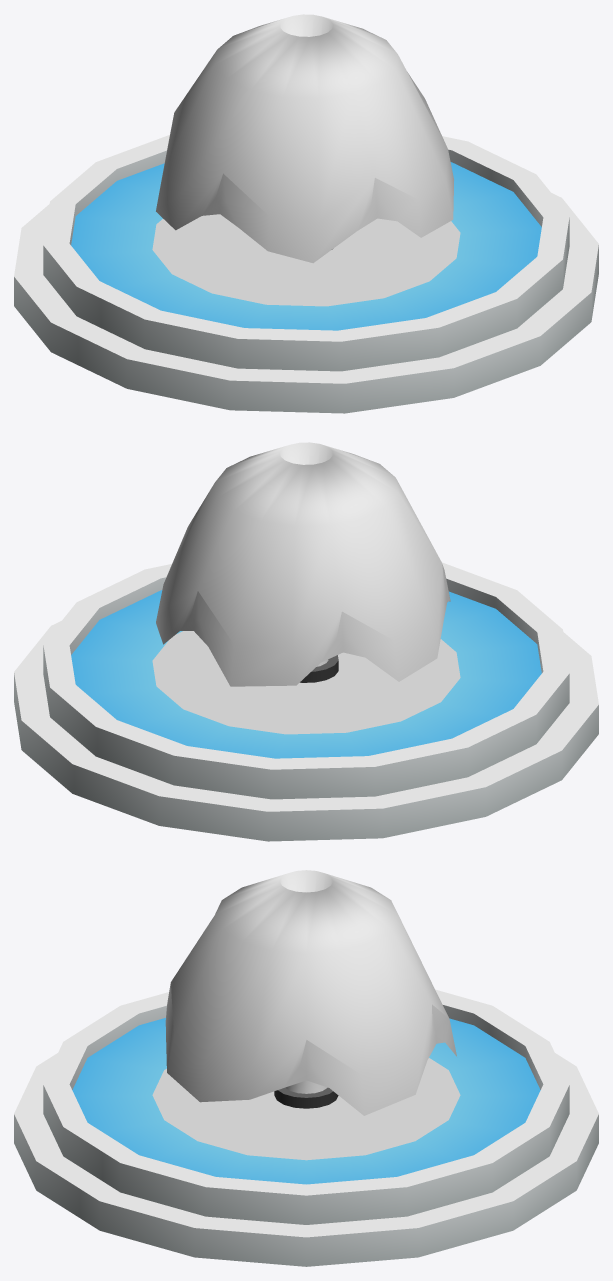
The model's file is Water_Fountain.fbx.
The picture shows the model from 3 angles, top to bottom: view 1: azimuth 30°, elevation 25°; view 2: azimuth 150°, elevation 25°; view 3: azimuth 270°, elevation 25°; orthographic projection.
Parts seen in each view (by area): view 1: Circle.005, Circle.003, Circle.004; view 2: Circle.005, Circle.003, Circle.004; view 3: Circle.005, Circle.003, Circle.004.
Boxes of the visible parts, x1=… form: Circle.005: x1=152, y1=14, x2=460, y2=306; Circle.003: x1=14, y1=135, x2=598, y2=413; Circle.004: x1=71, y1=162, x2=541, y2=330; Circle.005: x1=152, y1=442, x2=460, y2=734; Circle.003: x1=14, y1=562, x2=598, y2=841; Circle.004: x1=71, y1=590, x2=541, y2=758; Circle.005: x1=152, y1=870, x2=460, y2=1160; Circle.003: x1=14, y1=989, x2=598, y2=1266; Circle.004: x1=72, y1=1018, x2=540, y2=1184.
Bounding box in the file's own units: 450 × 222 × 450.
